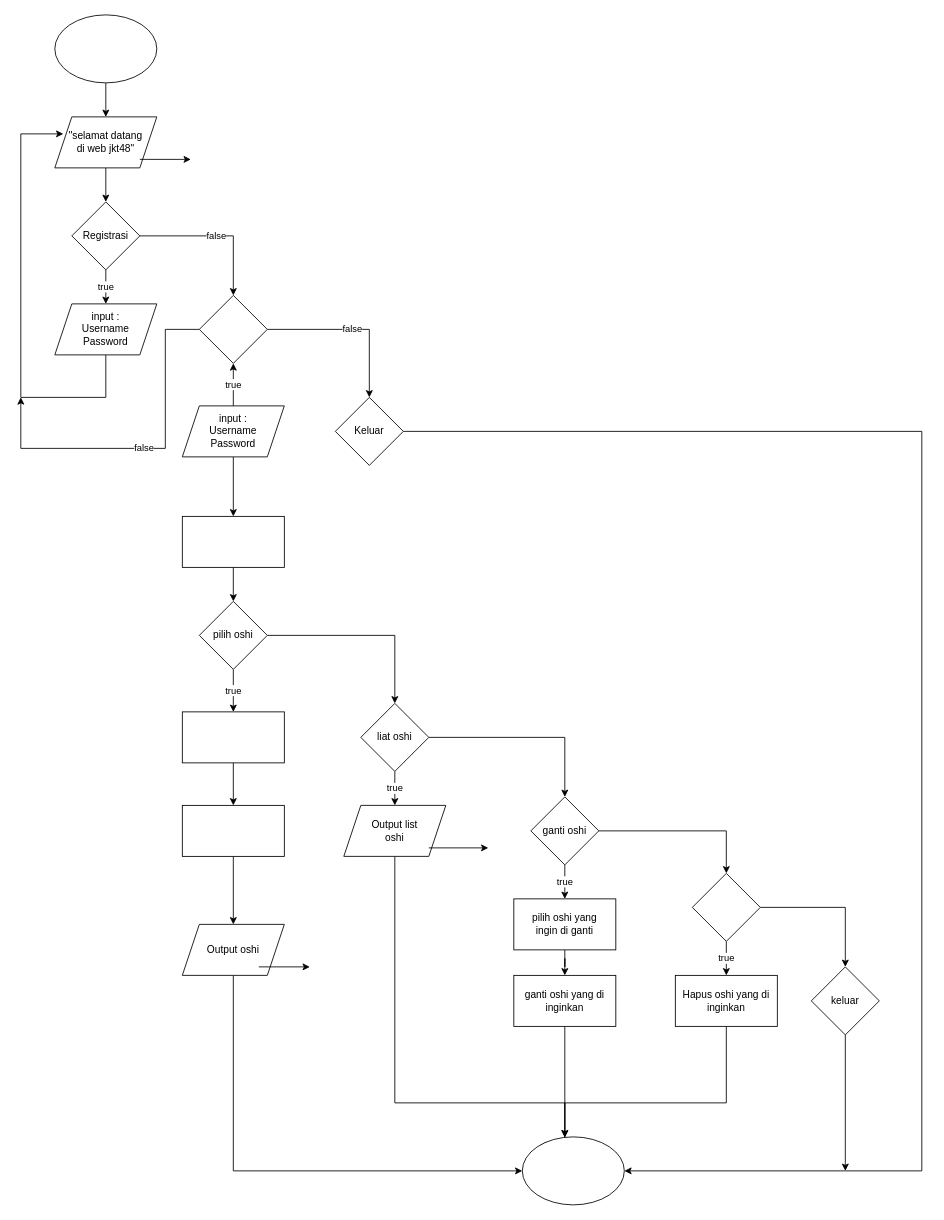
Some shapes in this 944 by 1220 pixel diagram are drawn without their labels. The shapes that lost their labels are listed below. From the top down, each one's centre as x and y in pixels, then its label:
At pixel 105 48: "STARS".
At pixel 232 329: "Login".
At pixel 232 541: "opsi".
At pixel 232 737: "Pilih gen member".
At pixel 232 830: "Pilih member".
At pixel 725 907: "hapus oshi".
At pixel 572 1170: "End".
